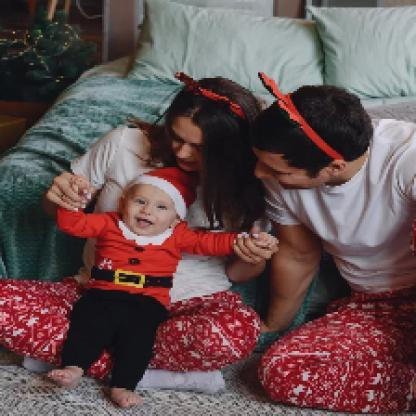child: (46, 168, 260, 410)
